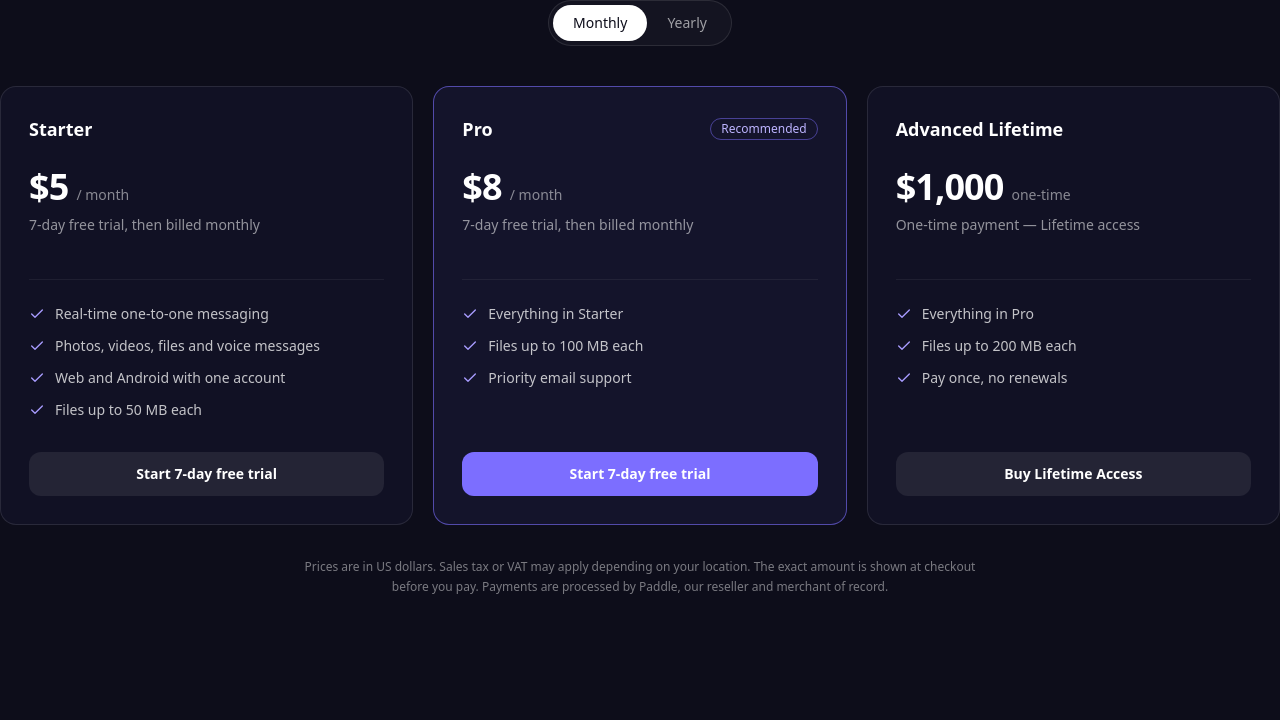
Test: pricing table › shows a trial only on the prices where Paddle has one
Expected: the text "7-day free trial, then billed monthly" below "$5" is shown, [29, 215, 260, 234]
Expected: the text "7-day free trial, then billed monthly" below "$8" is shown, [462, 215, 693, 234]
Click the radio button labelled "Yearly" at (687, 23), box [647, 5, 727, 41]
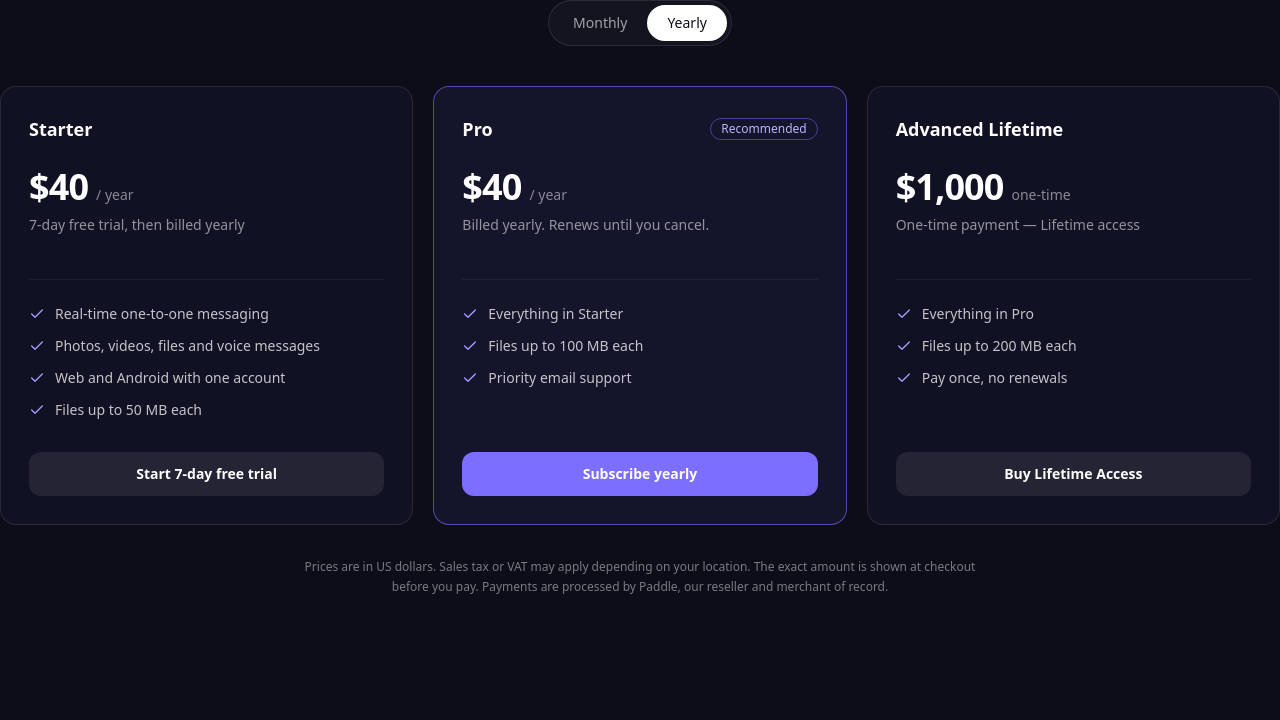
Expected: the text "7-day free trial, then billed yearly" is shown, [29, 215, 245, 234]
Expected: the text "Billed yearly. Renews until you cancel." is shown, [462, 215, 709, 234]
Expected: the button "Subscribe yearly" is shown, [462, 452, 818, 496]
